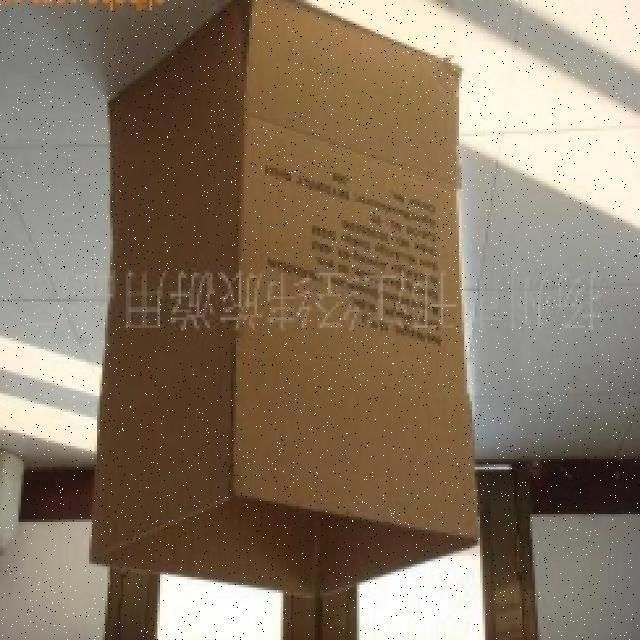box: (75, 4, 498, 593)
